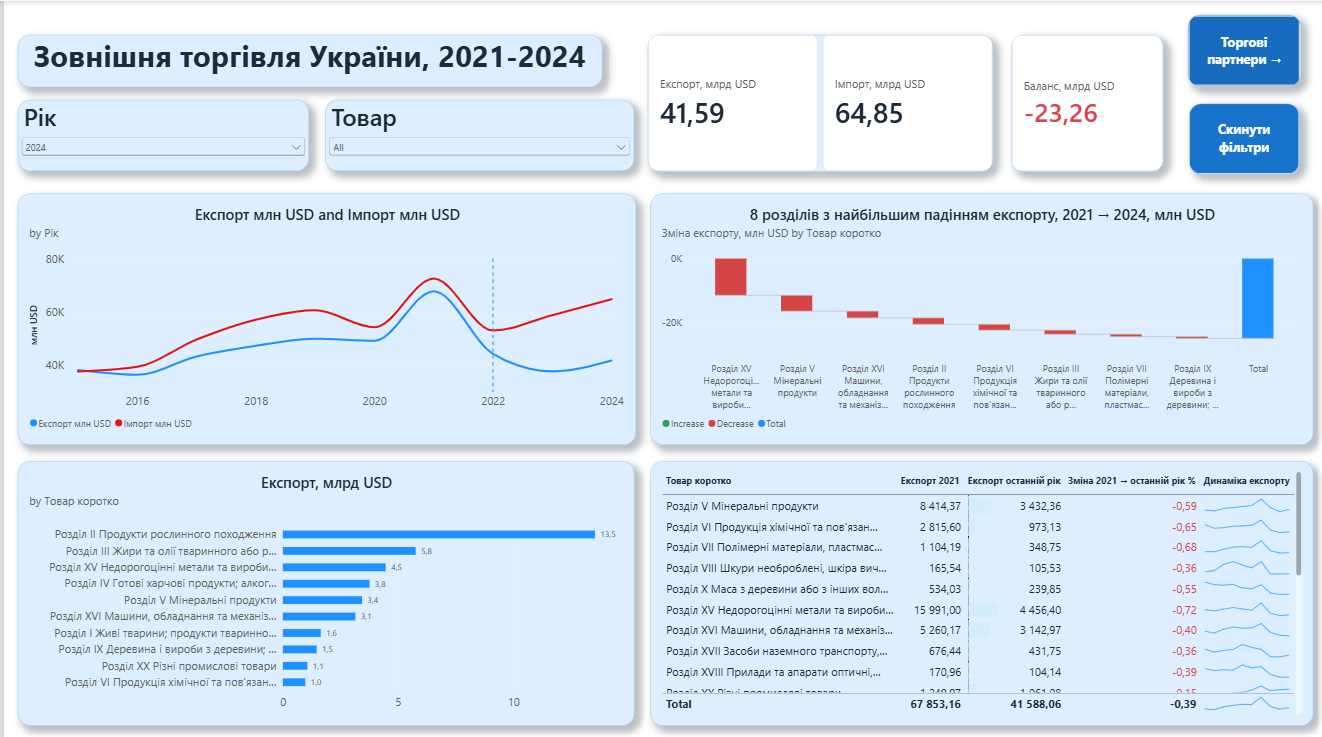

The page's visual inventory and layout, read from the dashboard file:
{"tool":"powerbi","page":{"name":"Огляд","canvas":[1920,1080],"ordinal":0},"visuals":[{"type":"cardVisual","fields":{"Data":["Trade.Експорт, млрд USD","Trade.Імпорт, млрд USD"]},"box":[932,48,500,198],"z":0},{"type":"cardVisual","fields":{"Data":["Trade.Баланс, млрд USD"]},"box":[1458,48,220,198],"z":1000},{"type":"lineChart","fields":{"Category":["Trade.Рік"],"Y":["Trade.Експорт млн USD","Trade.Імпорт млн USD"]},"box":[19.6,278.7,894.9,363.6],"z":2000},{"type":"slicer","fields":{"Values":["Trade.Товар"]},"box":[465.1,143,447,103.2],"z":3000},{"type":"tableEx","fields":{"Values":["Trade.Товар коротко","Trade.Експорт 2021","Trade.Експорт останній рік","Trade.Зміна 2021 → останній рік %","SparklineData(Trade.Експорт млн USD_[Trade.Рік])"]},"box":[936.3,666.3,960.2,383.2],"z":4000},{"type":"clusteredBarChart","fields":{"Category":["Trade.Custom"],"Y":["Trade.Експорт, млрд USD"]},"box":[19.6,666.3,892.7,383.2],"z":5000},{"type":"slicer","fields":{"Values":["Trade.Рік"]},"box":[19.9,143,421.7,103.2],"z":6000},{"type":"textbox","box":[20,48,846,76],"z":7000},{"type":"waterfallChart","title":"8 розділів з найбільшим падінням експорту, 2021 → 2024, млн USD","fields":{"Category":["Trade.Товар коротко"],"Y":["Trade.Зміна експорту, млн USD"]},"box":[936,278,960,364],"z":8000},{"type":"actionButton","box":[1714,20,164,104],"z":9000},{"type":"actionButton","box":[1716,148,160,102],"z":10000}]}

Visuals, with their boxes in screenshot pixels (x1, y1, x2, y2), scaled from the page's 1920x1080 canvas onto the 1322x737 screenshot:
cardVisual - Trade.Експорт, млрд USD x Trade.Імпорт, млрд USD: (642, 33, 986, 168)
cardVisual - Trade.Баланс, млрд USD: (1004, 33, 1155, 168)
lineChart - Trade.Рік x Trade.Експорт млн USD: (13, 190, 630, 438)
slicer - Trade.Товар: (320, 98, 628, 168)
tableEx - Trade.Товар коротко x Trade.Експорт 2021: (645, 455, 1306, 716)
clusteredBarChart - Trade.Custom x Trade.Експорт, млрд USD: (13, 455, 628, 716)
slicer - Trade.Рік: (14, 98, 304, 168)
textbox: (14, 33, 596, 85)
"8 розділів з найбільшим падінням експорту, 2021 → 2024, млн USD" waterfallChart: (644, 190, 1305, 438)
actionButton: (1180, 14, 1293, 85)
actionButton: (1182, 101, 1292, 171)
